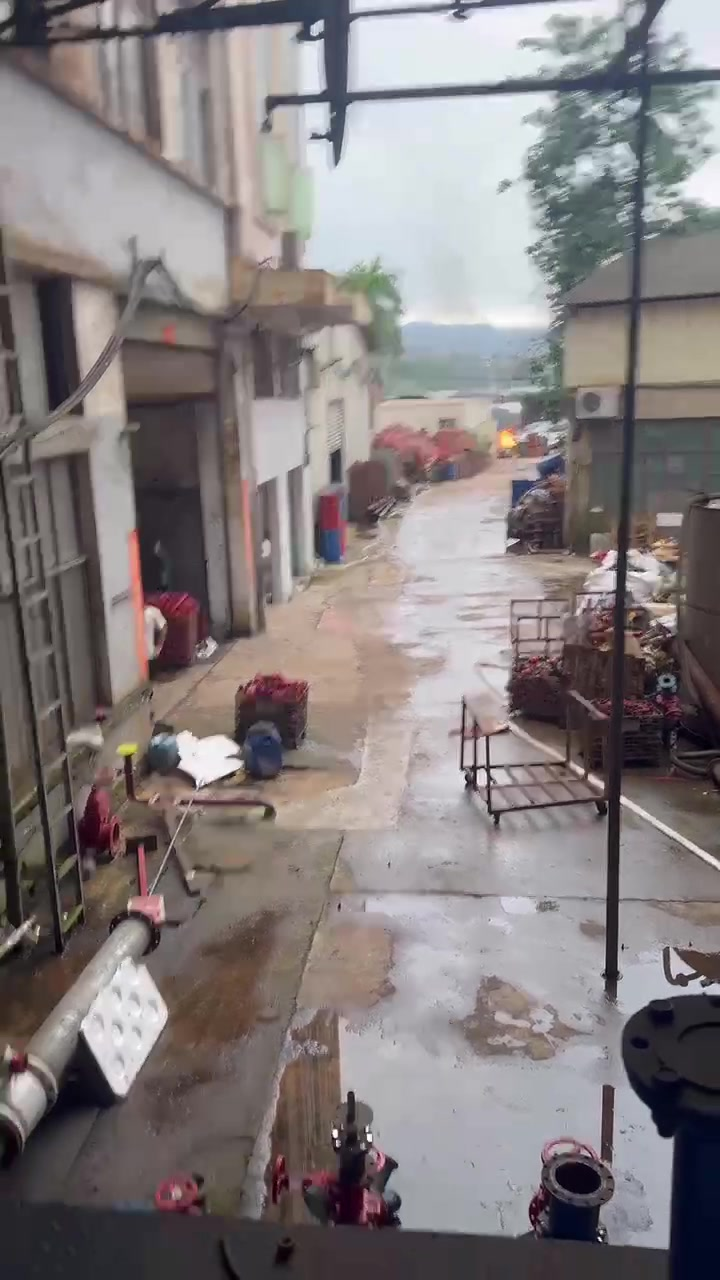fire: (500, 426, 515, 449)
